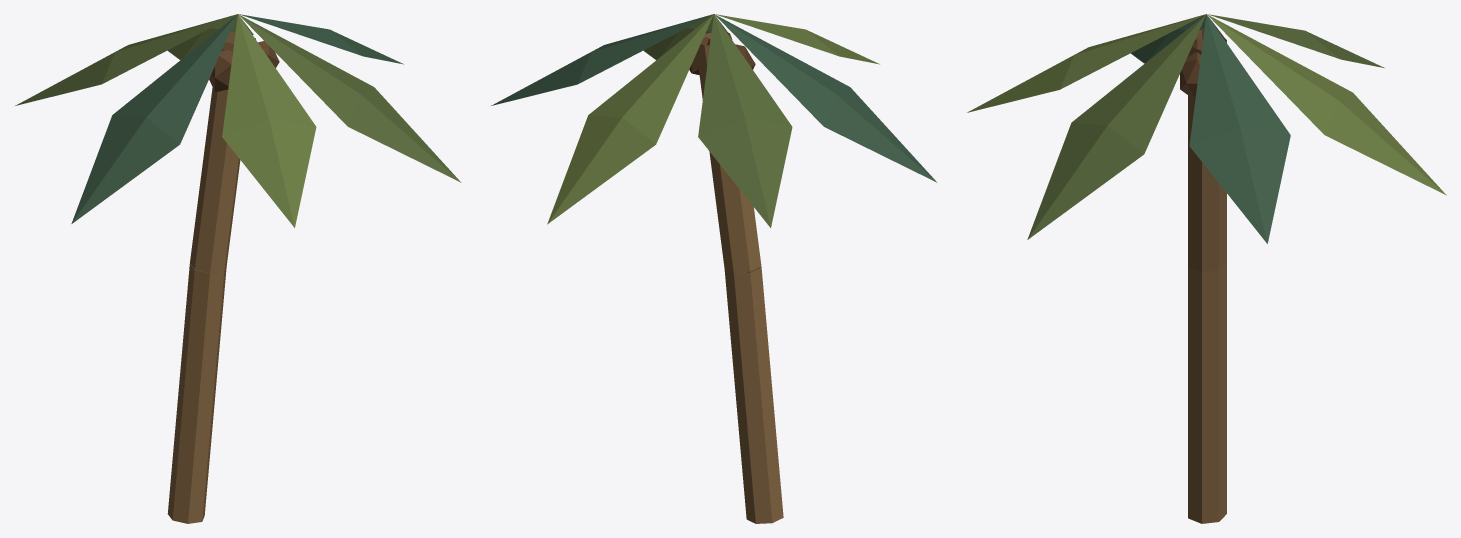
3 renders of one model, left to right at view 1: azimuth 30°, elevation 25°; view 2: azimuth 150°, elevation 25°; view 3: azimuth 270°, elevation 25°, orthographic. The views are drawn at different scales.
Visible parts, largest first — view 1: T17_弯干棕榈; view 2: T17_弯干棕榈; view 3: T17_弯干棕榈.
Boxes of the visible parts, x1,y1,x2,y2 form: T17_弯干棕榈: [15, 14, 461, 523]; T17_弯干棕榈: [491, 14, 937, 523]; T17_弯干棕榈: [967, 14, 1446, 523].
Bounding box in the file's own units: 2.13 × 2.56 × 2.11.
